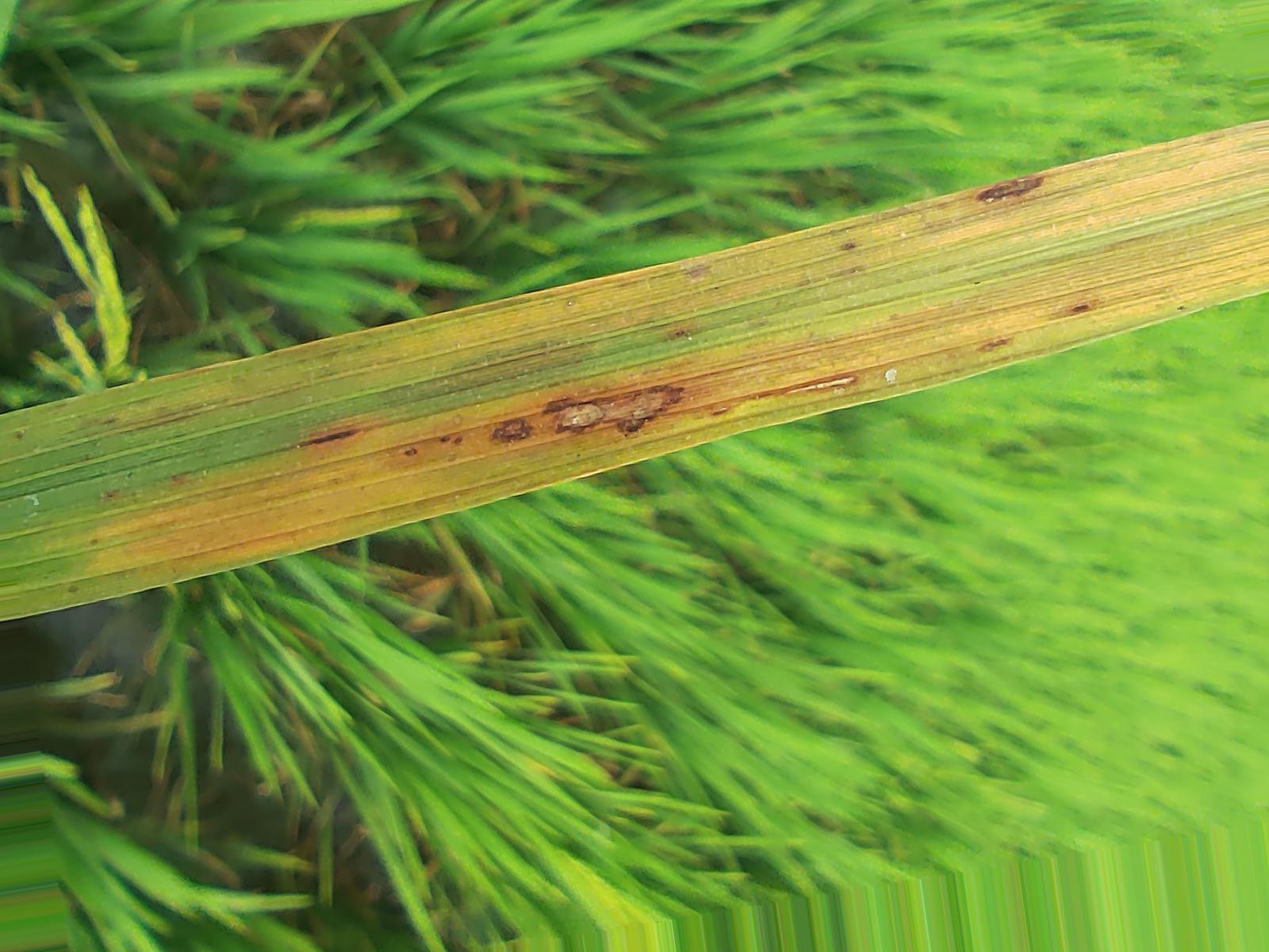LEAF: (0, 121, 1268, 620)
LEAF BLAST: (543, 384, 687, 436), (749, 373, 861, 400), (975, 174, 1045, 203), (490, 419, 533, 444)
